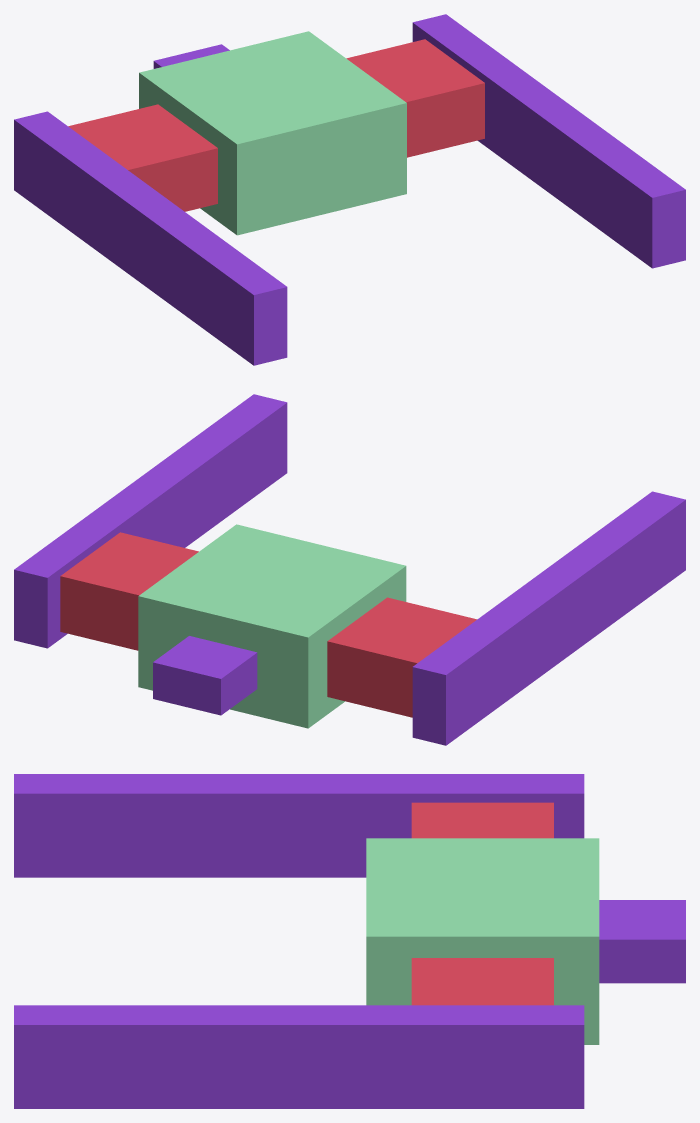
Rendered from spaceship.fbx.
3 views of the same model, one above another, from view 1: azimuth 30°, elevation 25°; view 2: azimuth 150°, elevation 25°; view 3: azimuth 270°, elevation 25° (orthographic). The views are drawn at different scales.
Parts seen in each view (by area): view 1: Cube, Cube.004, Cube.002, Cube.001, Cube.003, Cube.005; view 2: Cube, Cube.004, Cube.002, Cube.003, Cube.001, Cube.005; view 3: Cube.002, Cube.004, Cube, Cube.005, Cube.001, Cube.003.
Part boxes in pixels (bbox=[...]): Cube: bbox=[139, 31, 406, 235]; Cube.004: bbox=[14, 111, 287, 365]; Cube.002: bbox=[412, 14, 685, 268]; Cube.001: bbox=[346, 39, 484, 157]; Cube.003: bbox=[68, 104, 217, 211]; Cube.005: bbox=[153, 44, 229, 68]; Cube: bbox=[138, 524, 406, 728]; Cube.004: bbox=[412, 491, 685, 745]; Cube.002: bbox=[14, 394, 287, 648]; Cube.003: bbox=[327, 597, 476, 717]; Cube.001: bbox=[60, 532, 198, 650]; Cube.005: bbox=[153, 636, 257, 715]; Cube.002: bbox=[14, 1005, 584, 1108]; Cube.004: bbox=[14, 774, 584, 877]; Cube: bbox=[366, 838, 599, 1044]; Cube.005: bbox=[599, 900, 685, 983]; Cube.001: bbox=[411, 958, 553, 1005]; Cube.003: bbox=[411, 802, 553, 838].
Size of the model in its own units: 509 by 102 by 576.
